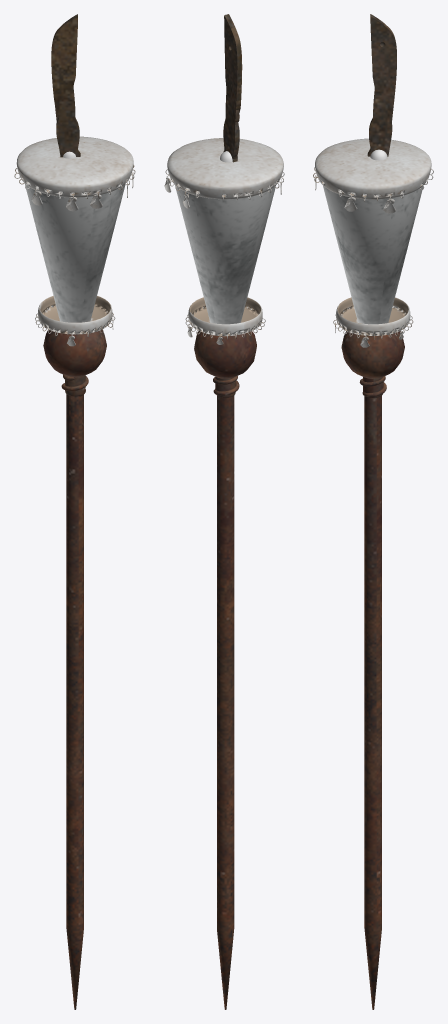
File: Assen 5.fbx
3 views of the same model, side by side, from view 1: azimuth 90°, elevation 25°; view 2: azimuth 210°, elevation 25°; view 3: azimuth 270°, elevation 25° (orthographic).
Parts seen in each view (by area): view 1: pied.001, Cone.001, Cone tete.001, Cout.001, Sphere.002, bs cone.001, NurbsPath.021; view 2: pied.001, Cone.001, Cone tete.001, Sphere.002, Cout.001, bs cone.001; view 3: pied.001, Cone.001, Cone tete.001, Cout.001, Sphere.002, bs cone.001, NurbsPath.021.
Boxes of the visible parts, bbox=[...] form: pied.001: bbox=[66, 394, 83, 1009]; Cone.001: bbox=[25, 184, 125, 322]; Cone tete.001: bbox=[16, 136, 133, 197]; Cout.001: bbox=[51, 14, 80, 157]; Sphere.002: bbox=[43, 329, 106, 377]; bs cone.001: bbox=[38, 296, 112, 334]; NurbsPath.021: bbox=[31, 172, 133, 211]; pied.001: bbox=[217, 396, 234, 1009]; Cone.001: bbox=[175, 185, 275, 324]; Cone tete.001: bbox=[167, 138, 283, 199]; Sphere.002: bbox=[194, 331, 256, 378]; Cout.001: bbox=[223, 14, 242, 162]; bs cone.001: bbox=[188, 297, 262, 336]; pied.001: bbox=[364, 396, 381, 1009]; Cone.001: bbox=[323, 186, 423, 324]; Cone tete.001: bbox=[315, 138, 431, 199]; Cout.001: bbox=[367, 14, 396, 156]; Sphere.002: bbox=[341, 331, 404, 378]; bs cone.001: bbox=[336, 297, 410, 335]; NurbsPath.021: bbox=[315, 175, 395, 213].
Bounding box in the file's own units: 136 × 1241 × 137.
1 material, 1 textured.
